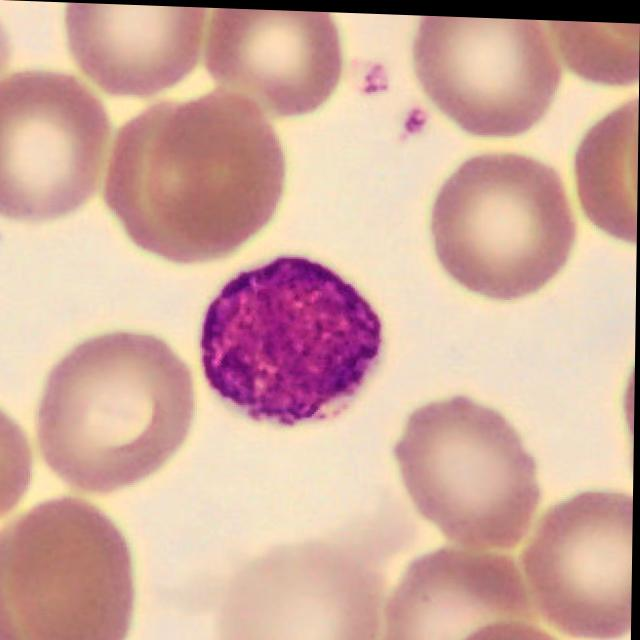Linfocito: (203, 256, 381, 422)
